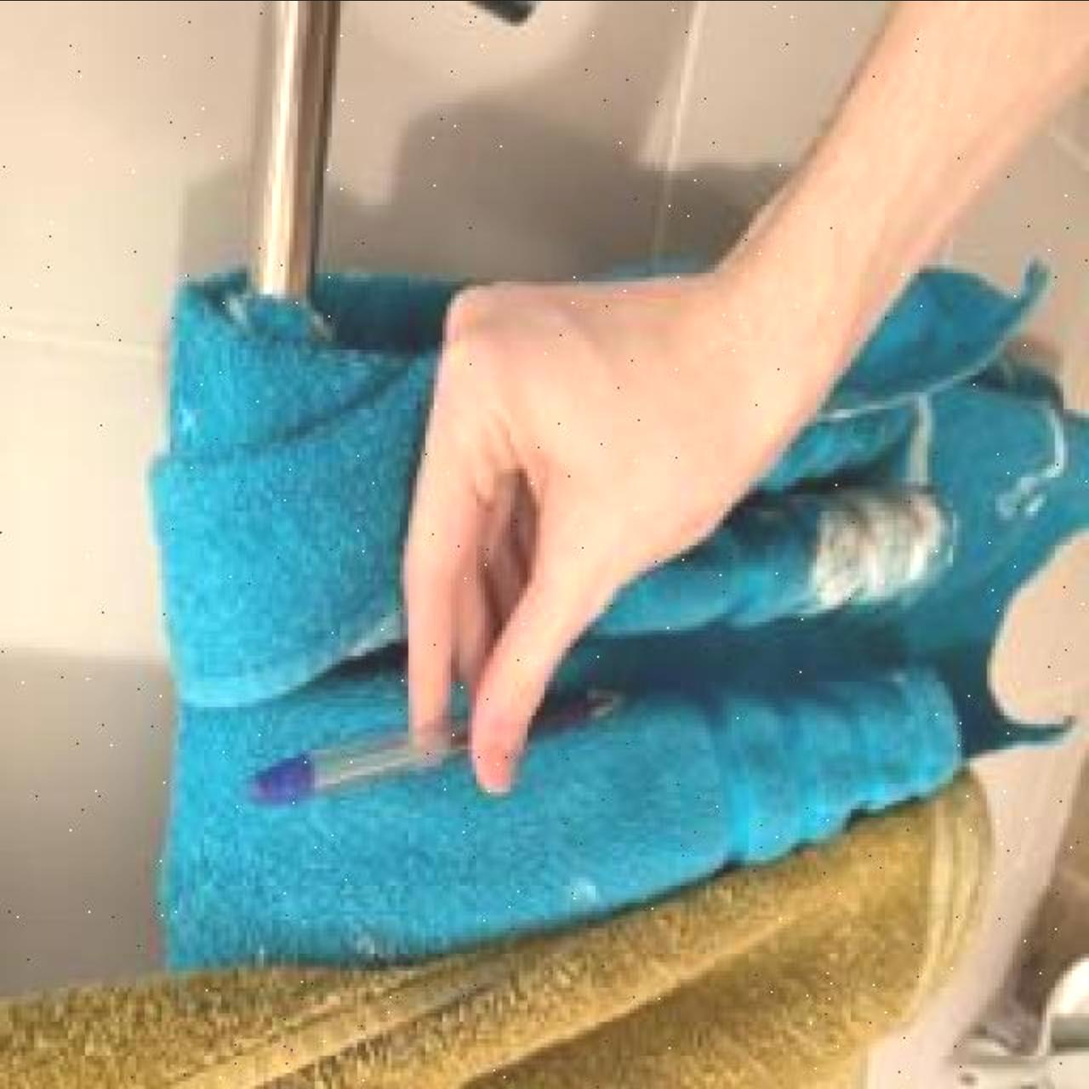pen: (247, 681, 635, 808)
